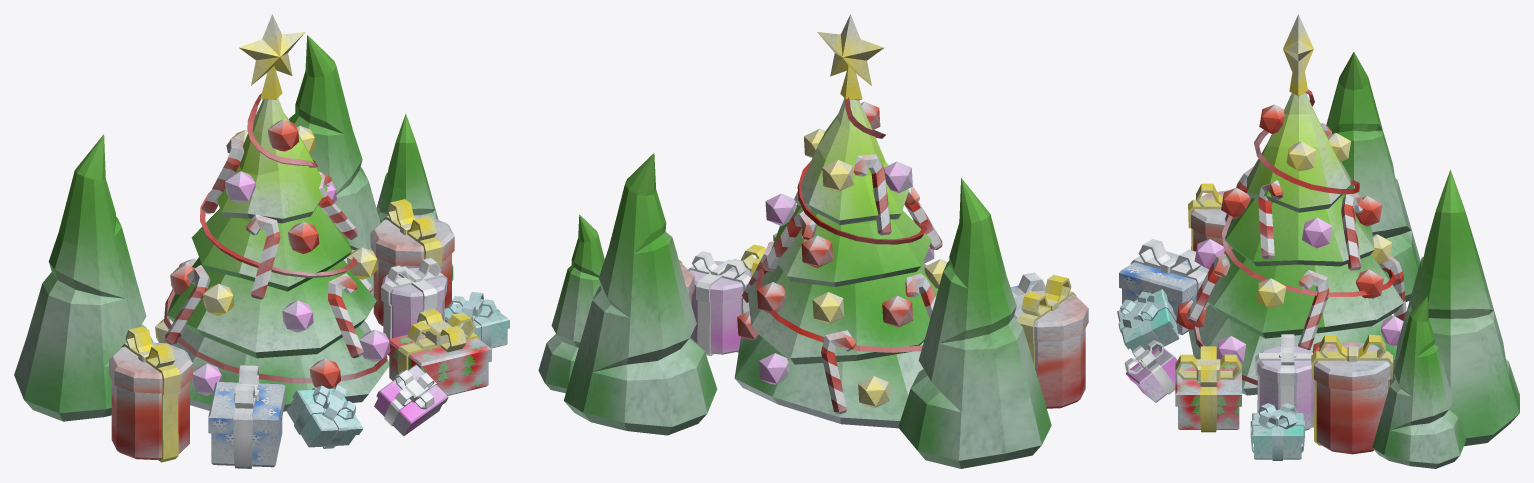
The model's file is Christmas_tree_pack.fbx.
3 views of the same model, side by side, from view 1: azimuth 30°, elevation 25°; view 2: azimuth 150°, elevation 25°; view 3: azimuth 270°, elevation 25° (orthographic). The views are drawn at different scales.
Visible parts, largest first — view 1: Christmas_Tree_Ball_02; view 2: Christmas_Tree_Ball_02; view 3: Christmas_Tree_Ball_02.
Boxes of the visible parts, x1=… form: Christmas_Tree_Ball_02: x1=14, y1=14, x2=509, y2=468; Christmas_Tree_Ball_02: x1=538, y1=14, x2=1088, y2=468; Christmas_Tree_Ball_02: x1=1117, y1=14, x2=1519, y2=468.
Size of the model in its own units: 2338 by 1824 by 1872.
1 material, 1 textured.
